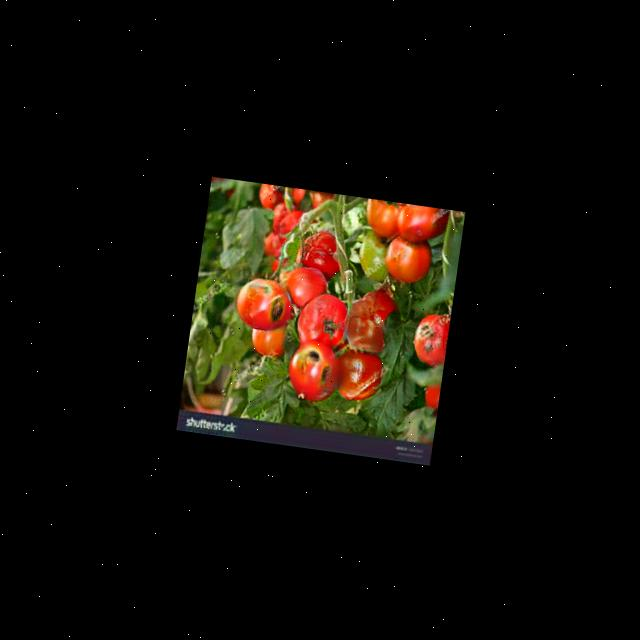tomato: (345, 286, 404, 356), (284, 338, 340, 404), (233, 274, 292, 331), (294, 291, 348, 349), (382, 234, 431, 282), (298, 228, 344, 279), (410, 312, 449, 364)
